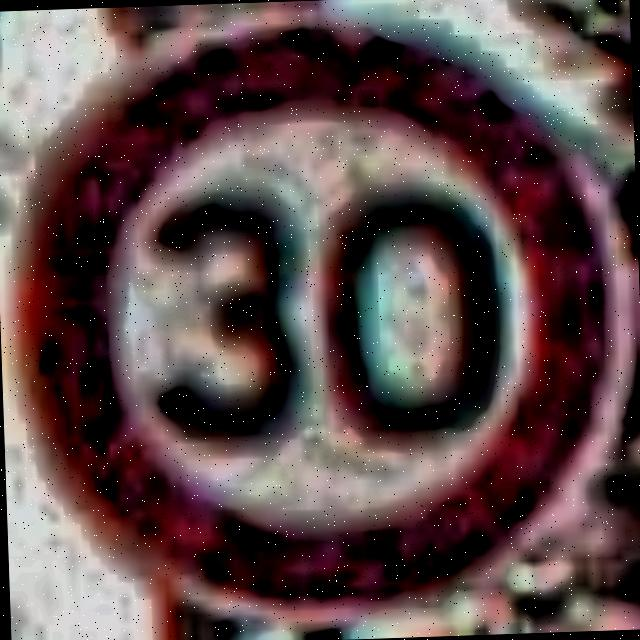speed_30: (12, 17, 618, 601)
